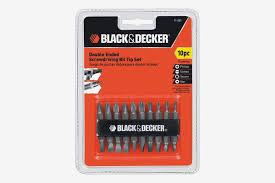screwdriver: (119, 101, 128, 120), (128, 100, 137, 119), (103, 100, 111, 121), (111, 101, 120, 119), (137, 99, 145, 118), (121, 134, 129, 153), (137, 133, 145, 152), (94, 101, 102, 119), (146, 133, 153, 153), (105, 135, 113, 152), (97, 134, 103, 153), (114, 133, 120, 152), (130, 133, 136, 152)
